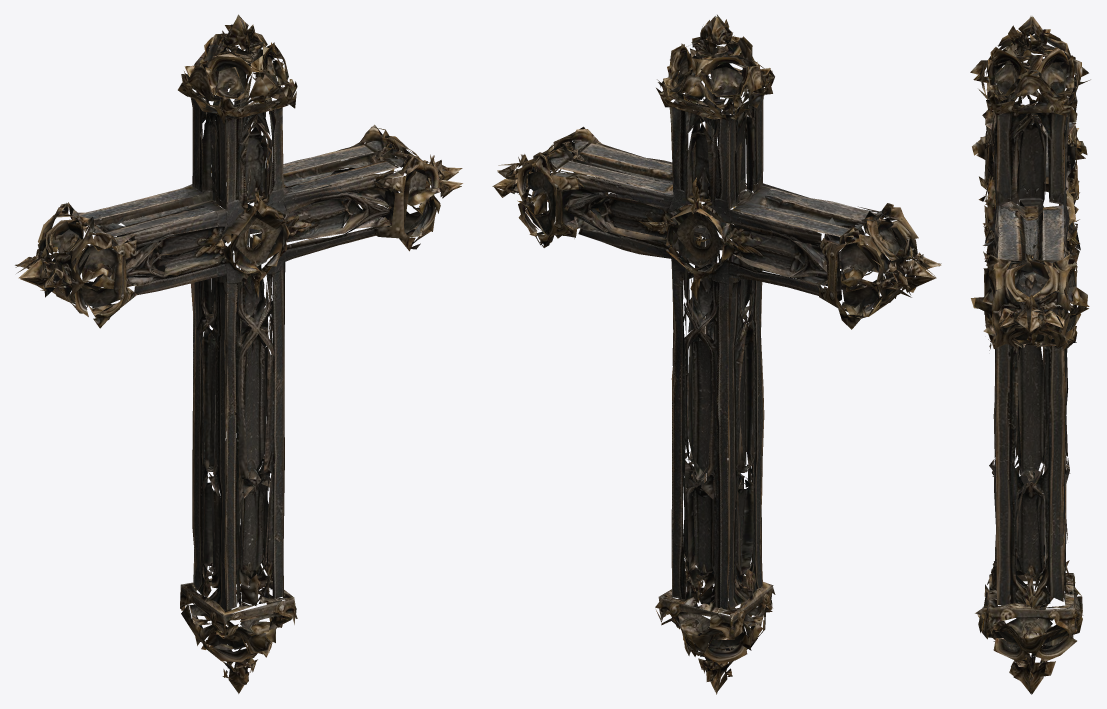
File: Cross.fbx
The picture shows the model from 3 angles, left to right: view 1: azimuth 30°, elevation 25°; view 2: azimuth 150°, elevation 25°; view 3: azimuth 270°, elevation 25°; orthographic projection.
Parts seen in each view (by area): view 1: Cross; view 2: Cross; view 3: Cross.
Part boxes in pixels (x1,y1,x2,y2): Cross: [15, 14, 462, 693]; Cross: [492, 14, 941, 694]; Cross: [970, 16, 1090, 694].
Bounding box in the file's own units: 67.84 × 99.54 × 16.28.
Materials: 1 (1 with a texture image).
